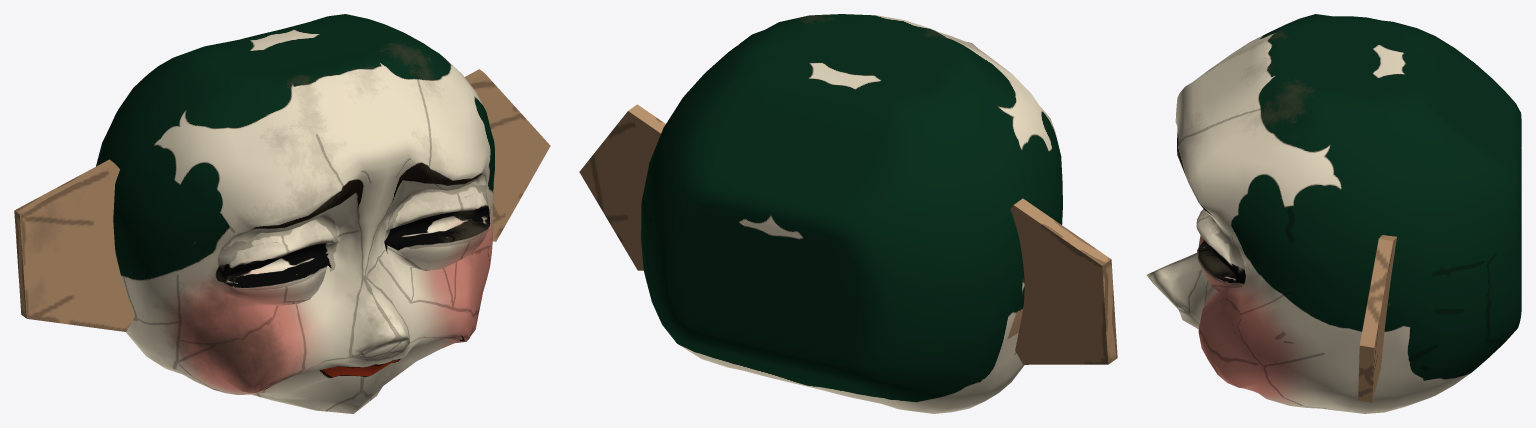
The model's file is stage_4.fbx.
3 views of the same model, side by side, from view 1: azimuth 30°, elevation 25°; view 2: azimuth 150°, elevation 25°; view 3: azimuth 270°, elevation 25° (orthographic). The views are drawn at different scales.
Parts seen in each view (by area): view 1: stage_4, Ear, Ear1; view 2: stage_4, Ear, Ear1; view 3: stage_4, Ear1.
Part boxes in pixels (<box>): stage_4: <box>96,14,494,413</box>; Ear: <box>14,159,134,331</box>; Ear1: <box>464,69,550,241</box>; stage_4: <box>641,14,1062,413</box>; Ear: <box>1010,198,1117,364</box>; Ear1: <box>579,104,665,270</box>; stage_4: <box>1146,14,1521,413</box>; Ear1: <box>1358,235,1396,402</box>.
Bounding box in the file's own units: 65.91 × 40.95 × 41.34.
